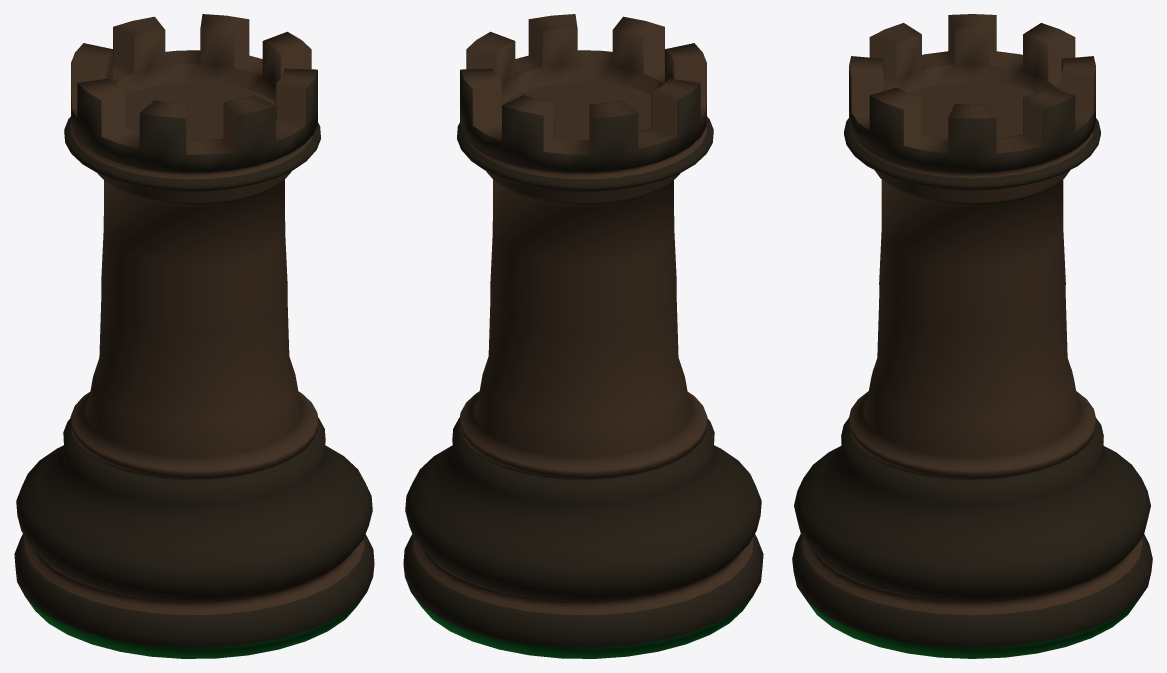
Rendered from RookBlack.fbx.
3 renders of one model, left to right at view 1: azimuth 30°, elevation 25°; view 2: azimuth 150°, elevation 25°; view 3: azimuth 270°, elevation 25°, orthographic.
Visible parts, largest first — view 1: Black Rook K; view 2: Black Rook K; view 3: Black Rook K.
Part boxes in pixels (bbox=[...]): Black Rook K: bbox=[14, 14, 374, 658]; Black Rook K: bbox=[403, 14, 763, 658]; Black Rook K: bbox=[792, 14, 1152, 658].
Size of the model in its own units: 4.04 by 6.45 by 4.04.
